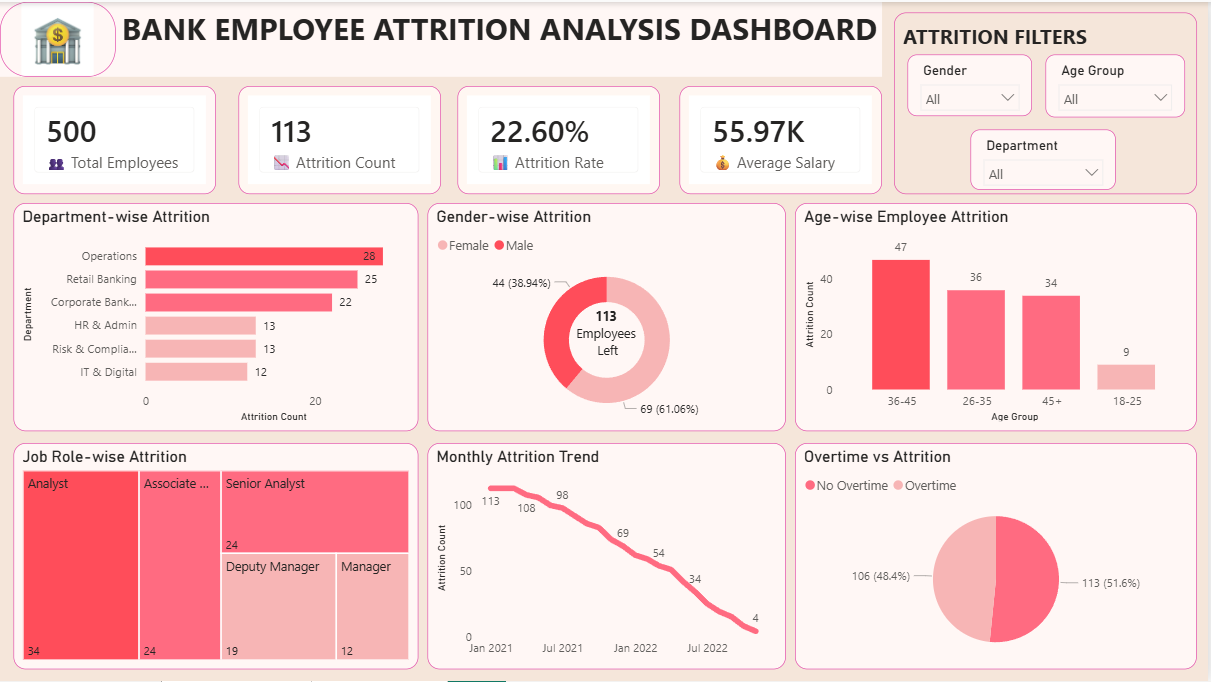

The dashboard page shown, as its layout file describes it:
{"tool":"powerbi","page":{"name":"Dashboard","canvas":[1280,720],"ordinal":0},"visuals":[{"type":"cardVisual","title":"👥 Total Employees","fields":{"Data":["cleaned_bank_attrition.Total Employees"]},"box":[14.3,89.1,214.7,114.5],"z":0},{"type":"cardVisual","fields":{"Data":["cleaned_bank_attrition.Attrition Count"]},"box":[252.9,89.1,214.7,114.5],"z":1000},{"type":"cardVisual","fields":{"Data":["cleaned_bank_attrition.Attrition Rate"]},"box":[485.1,89.1,214.7,114.5],"z":2000},{"type":"cardVisual","fields":{"Data":["cleaned_bank_attrition.Average Salary"]},"box":[720.5,89.1,214.7,114.5],"z":3000},{"type":"clusteredBarChart","title":"Department-wise Attrition","fields":{"Category":["cleaned_bank_attrition.Department"],"Y":["cleaned_bank_attrition.Attrition Count"]},"box":[14.3,213.1,429.5,241.8],"z":4000},{"type":"textbox","box":[0,0,935.3,79.5],"z":5000},{"type":"image","box":[0,0,122.5,79.5],"z":6000},{"type":"donutChart","title":"Gender-wise Attrition","fields":{"Y":["cleaned_bank_attrition.Attrition Count"],"Category":["cleaned_bank_attrition.Gender Name"]},"box":[453.3,213.1,380.2,241.8],"z":7000},{"type":"textbox","box":[564.7,318.1,155.9,84.3],"z":8000},{"type":"clusteredColumnChart","title":"Age-wise Employee Attrition","fields":{"Category":["cleaned_bank_attrition.Age Group"],"Y":["cleaned_bank_attrition.Attrition Count"]},"box":[843,213.1,426.3,241.8],"z":9000},{"type":"treemap","title":"Job Role-wise Attrition","fields":{"Group":["cleaned_bank_attrition.Joining_Designation"],"Values":["cleaned_bank_attrition.Attrition Count"]},"box":[14.3,467.6,429.5,240.2],"z":10000},{"type":"pieChart","title":"Overtime vs Attrition","fields":{"Category":["cleaned_bank_attrition.Overtime Status"],"Y":["cleaned_bank_attrition.Attrition Count"]},"box":[843,467.6,426.3,240.2],"z":11000},{"type":"lineChart","title":"Monthly Attrition Trend","fields":{"Y":["cleaned_bank_attrition.Attrition Count"],"Category":["cleaned_bank_attrition.MMMM_YY.Variation.Date Hierarchy.Year","cleaned_bank_attrition.MMMM_YY.Variation.Date Hierarchy.Quarter","cleaned_bank_attrition.MMMM_YY.Variation.Date Hierarchy.Month"]},"box":[453.3,467.6,380.2,240.2],"z":12000},{"type":"textbox","box":[948,11.1,321.3,192.5],"z":12500},{"type":"slicer","fields":{"Values":["cleaned_bank_attrition.Department"]},"box":[1029.1,135.2,154.3,64],"z":13000},{"type":"slicer","fields":{"Values":["cleaned_bank_attrition.Age Group"]},"box":[1108.7,55.7,147.9,66.8],"z":14000},{"type":"slicer","fields":{"Values":["cleaned_bank_attrition.Gender Name"]},"box":[962.3,55.7,132,65.2],"z":15000}]}

Visuals, with their boxes in screenshot pixels (x1, y1, x2, y2), scaled from the page's 1280x720 canvas onto the 1211x682 screenshot:
"👥 Total Employees" cardVisual: (left=14, top=84, right=217, bottom=193)
cardVisual - cleaned_bank_attrition.Attrition Count: (left=239, top=84, right=442, bottom=193)
cardVisual - cleaned_bank_attrition.Attrition Rate: (left=459, top=84, right=662, bottom=193)
cardVisual - cleaned_bank_attrition.Average Salary: (left=682, top=84, right=885, bottom=193)
"Department-wise Attrition" clusteredBarChart: (left=14, top=202, right=420, bottom=431)
textbox: (left=0, top=0, right=885, bottom=75)
image: (left=0, top=0, right=116, bottom=75)
"Gender-wise Attrition" donutChart: (left=429, top=202, right=789, bottom=431)
textbox: (left=534, top=301, right=682, bottom=381)
"Age-wise Employee Attrition" clusteredColumnChart: (left=798, top=202, right=1201, bottom=431)
"Job Role-wise Attrition" treemap: (left=14, top=443, right=420, bottom=670)
"Overtime vs Attrition" pieChart: (left=798, top=443, right=1201, bottom=670)
"Monthly Attrition Trend" lineChart: (left=429, top=443, right=789, bottom=670)
textbox: (left=897, top=11, right=1201, bottom=193)
slicer - cleaned_bank_attrition.Department: (left=974, top=128, right=1120, bottom=189)
slicer - cleaned_bank_attrition.Age Group: (left=1049, top=53, right=1189, bottom=116)
slicer - cleaned_bank_attrition.Gender Name: (left=910, top=53, right=1035, bottom=115)
